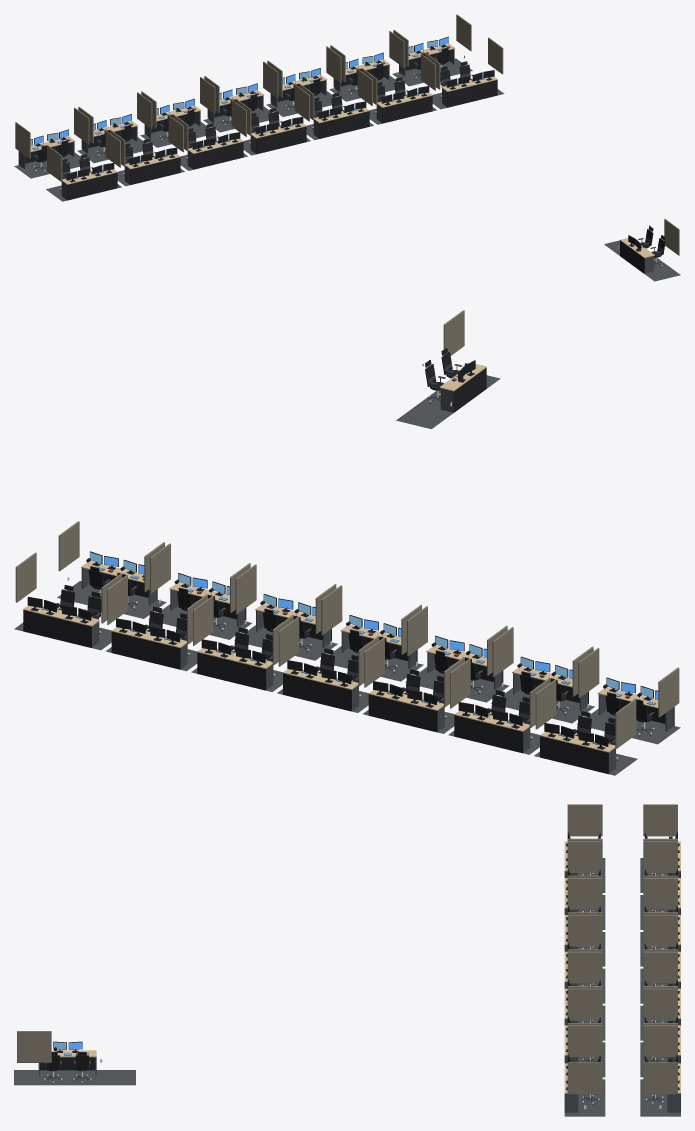
Rendered from 21_n2_circulacion_gesell.glb.
3 views of the same model, one above another, from view 1: azimuth 30°, elevation 25°; view 2: azimuth 150°, elevation 25°; view 3: azimuth 270°, elevation 25° (orthographic). The views are drawn at different scales.
Parts seen in each view (by area): view 1: mesa_gesell_240 (×14), panel_acustico (×17), mesa_gesell_200, piso · Cabina Gesell.014, piso · Cabina Gesell.024, piso · Cabina Gesell.020, piso · Cabina Gesell.015, piso · Cabina Gesell.017, piso · Cabina Gesell.016, piso · Cabina Gesell.018, piso · Cabina Gesell.019; view 2: mesa_gesell_240 (×14), panel_acustico (×17), mesa_gesell_200, piso · Cabina Gesell.024, piso · Cabina Gesell.007, piso · Cabina Gesell.013, piso · Cabina Gesell.008, piso · Cabina Gesell.011, piso · Cabina Gesell.009, piso · Cabina Gesell.012, piso · Cabina Gesell.010; view 3: panel_acustico (×17), piso · Cabina Gesell.024, mesa_gesell_200, piso · Cabina Gesell.013, piso · Cabina Gesell.020.
Boxes of the visible parts, <box> form: mesa_gesell_240 (×14): <box>18,36,497,200</box>; panel_acustico (×17): <box>15,14,679,255</box>; mesa_gesell_200: <box>620,235,654,273</box>; piso · Cabina Gesell.014: <box>14,152,82,178</box>; piso · Cabina Gesell.024: <box>604,240,680,281</box>; piso · Cabina Gesell.020: <box>392,58,472,86</box>; piso · Cabina Gesell.015: <box>77,137,153,163</box>; piso · Cabina Gesell.017: <box>203,106,279,132</box>; piso · Cabina Gesell.016: <box>140,122,216,147</box>; piso · Cabina Gesell.018: <box>266,91,342,116</box>; piso · Cabina Gesell.019: <box>329,75,405,101</box>; mesa_gesell_240 (×14): <box>23,551,674,774</box>; panel_acustico (×17): <box>15,310,679,748</box>; mesa_gesell_200: <box>439,360,486,412</box>; piso · Cabina Gesell.024: <box>396,375,500,429</box>; piso · Cabina Gesell.007: <box>577,708,680,744</box>; piso · Cabina Gesell.013: <box>57,581,166,618</box>; piso · Cabina Gesell.008: <box>491,688,594,723</box>; piso · Cabina Gesell.011: <box>234,625,337,660</box>; piso · Cabina Gesell.009: <box>405,667,509,702</box>; piso · Cabina Gesell.012: <box>149,604,251,639</box>; piso · Cabina Gesell.010: <box>320,646,423,681</box>; panel_acustico (×17): <box>17,804,677,1094</box>; piso · Cabina Gesell.024: <box>14,1070,135,1085</box>; mesa_gesell_200: <box>38,1041,96,1075</box>; piso · Cabina Gesell.013: <box>564,1079,605,1116</box>; piso · Cabina Gesell.020: <box>640,1079,680,1116</box>.
Size of the model in its own units: 21.05 by 2.05 by 22.95.
15 materials, 3 textured.
